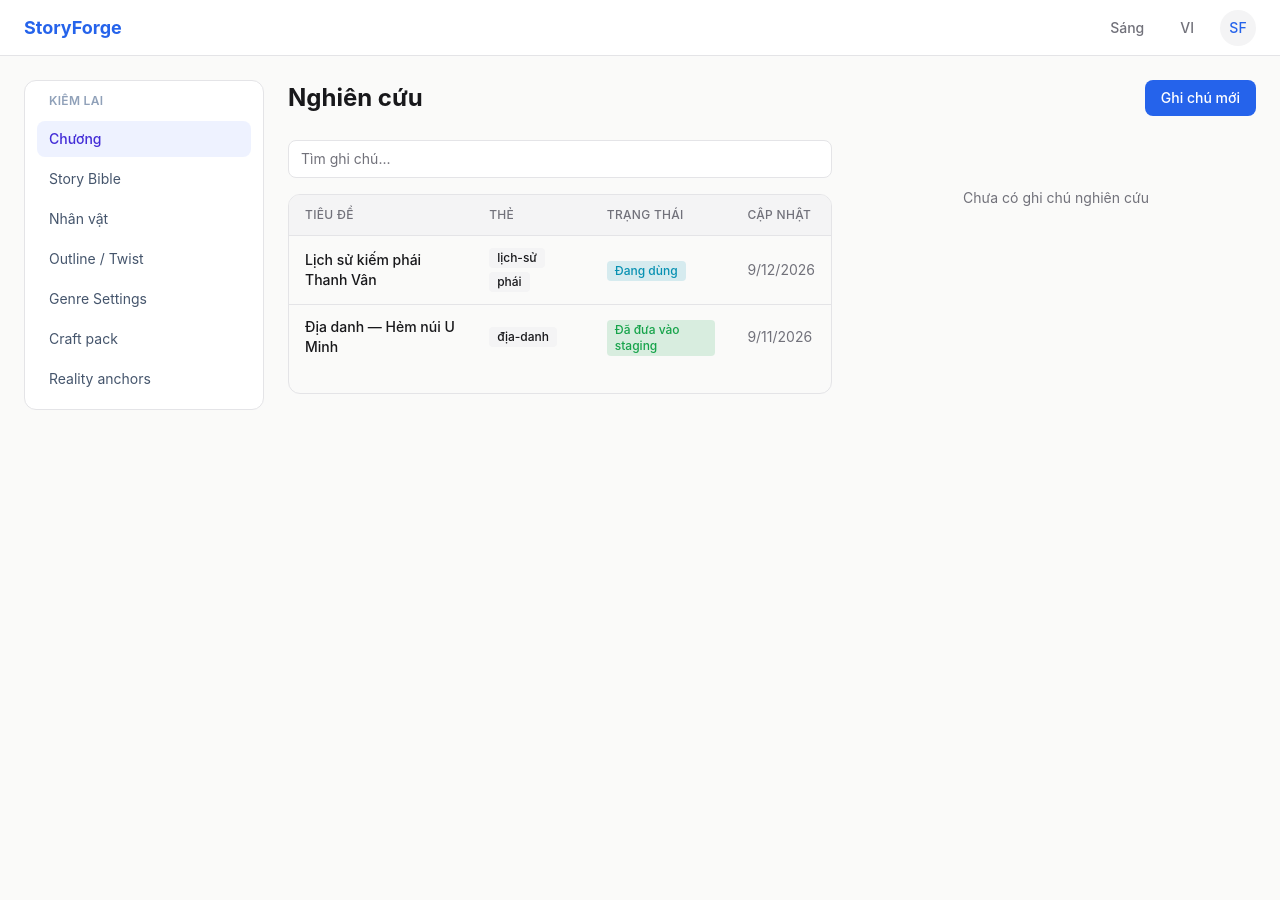
Scenario: research components › ResearchInboxPage completes promote flow
Click the text "Lịch sử kiếm phái Thanh Vân".
click(381, 270)  # box top-left (289, 236), bottom-right (473, 304)
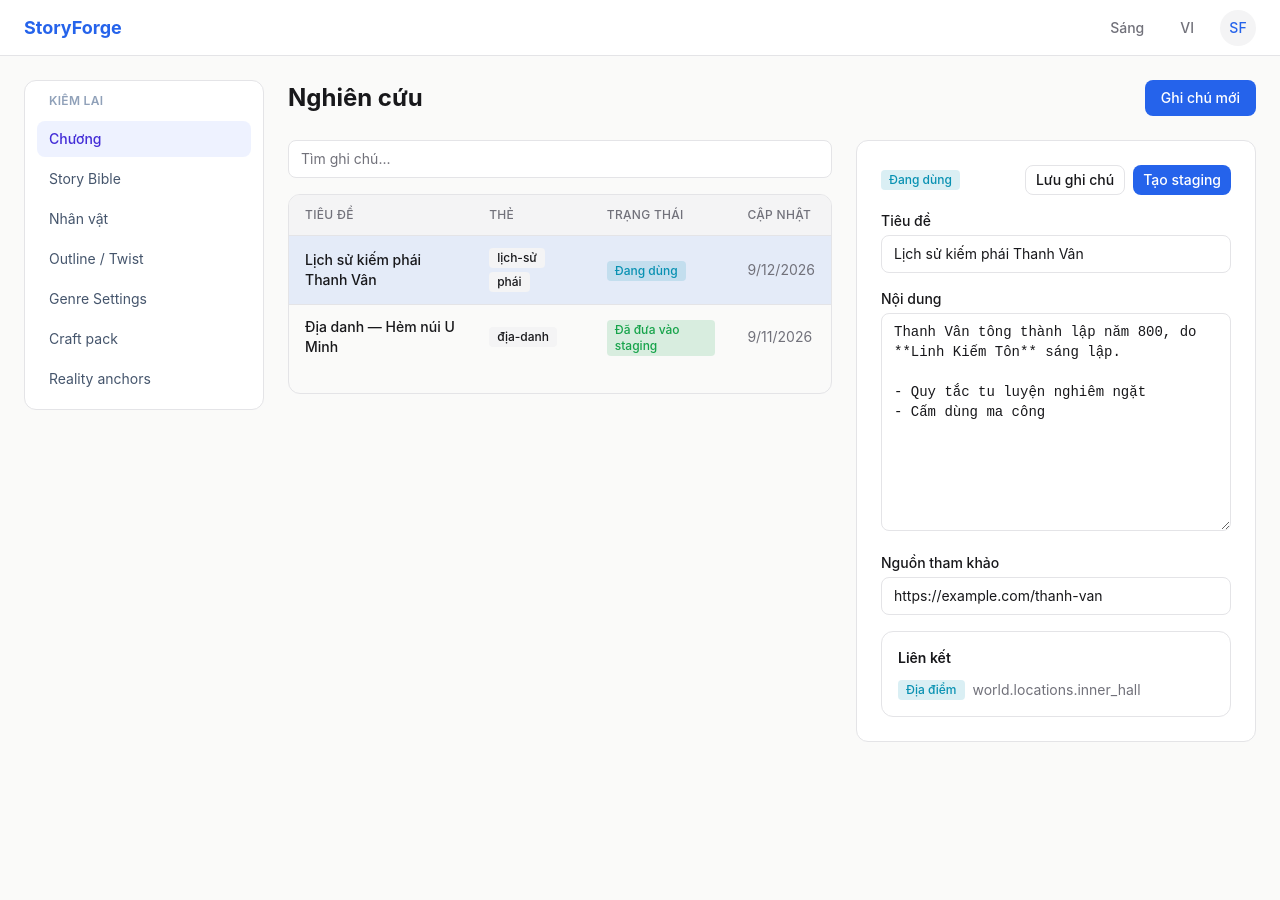
Click the button "Tạo staging".
click(1182, 180)  # box top-left (1133, 165), bottom-right (1231, 195)
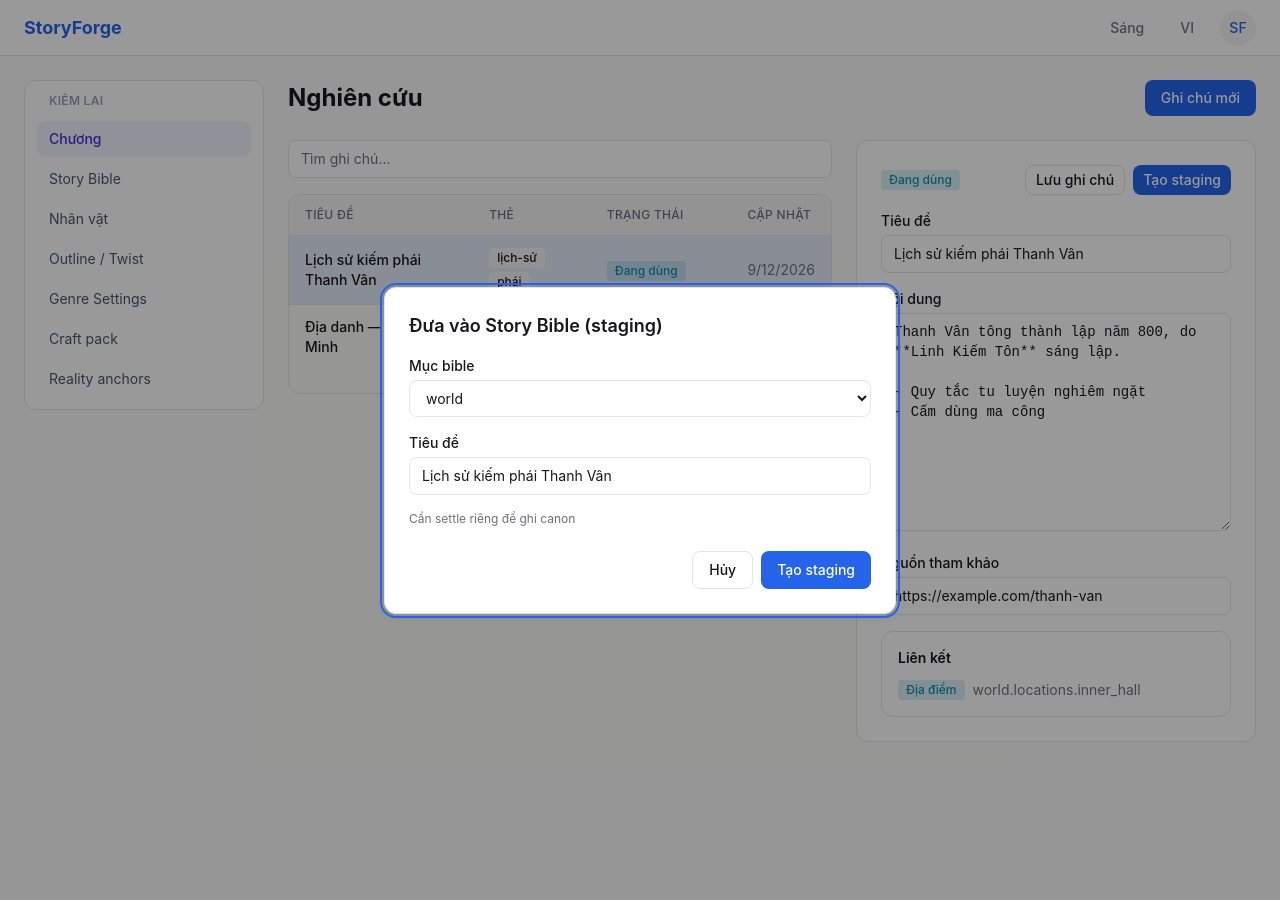
Click the button "Tạo staging".
click(816, 570)  # box top-left (761, 550), bottom-right (871, 588)
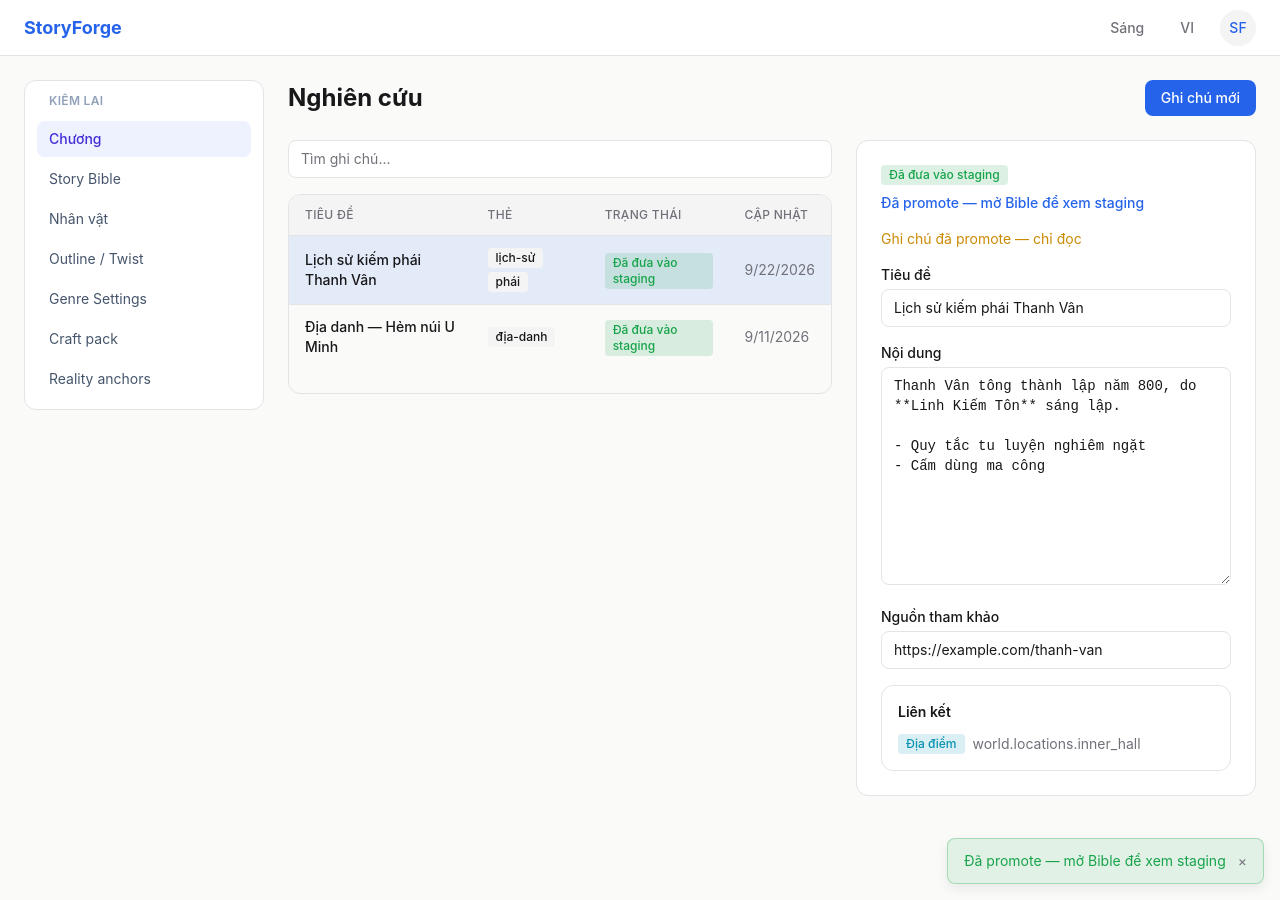
Now the link "Đã promote — mở Bible để xem staging" is shown, box top-left (881, 193), bottom-right (1144, 213)
